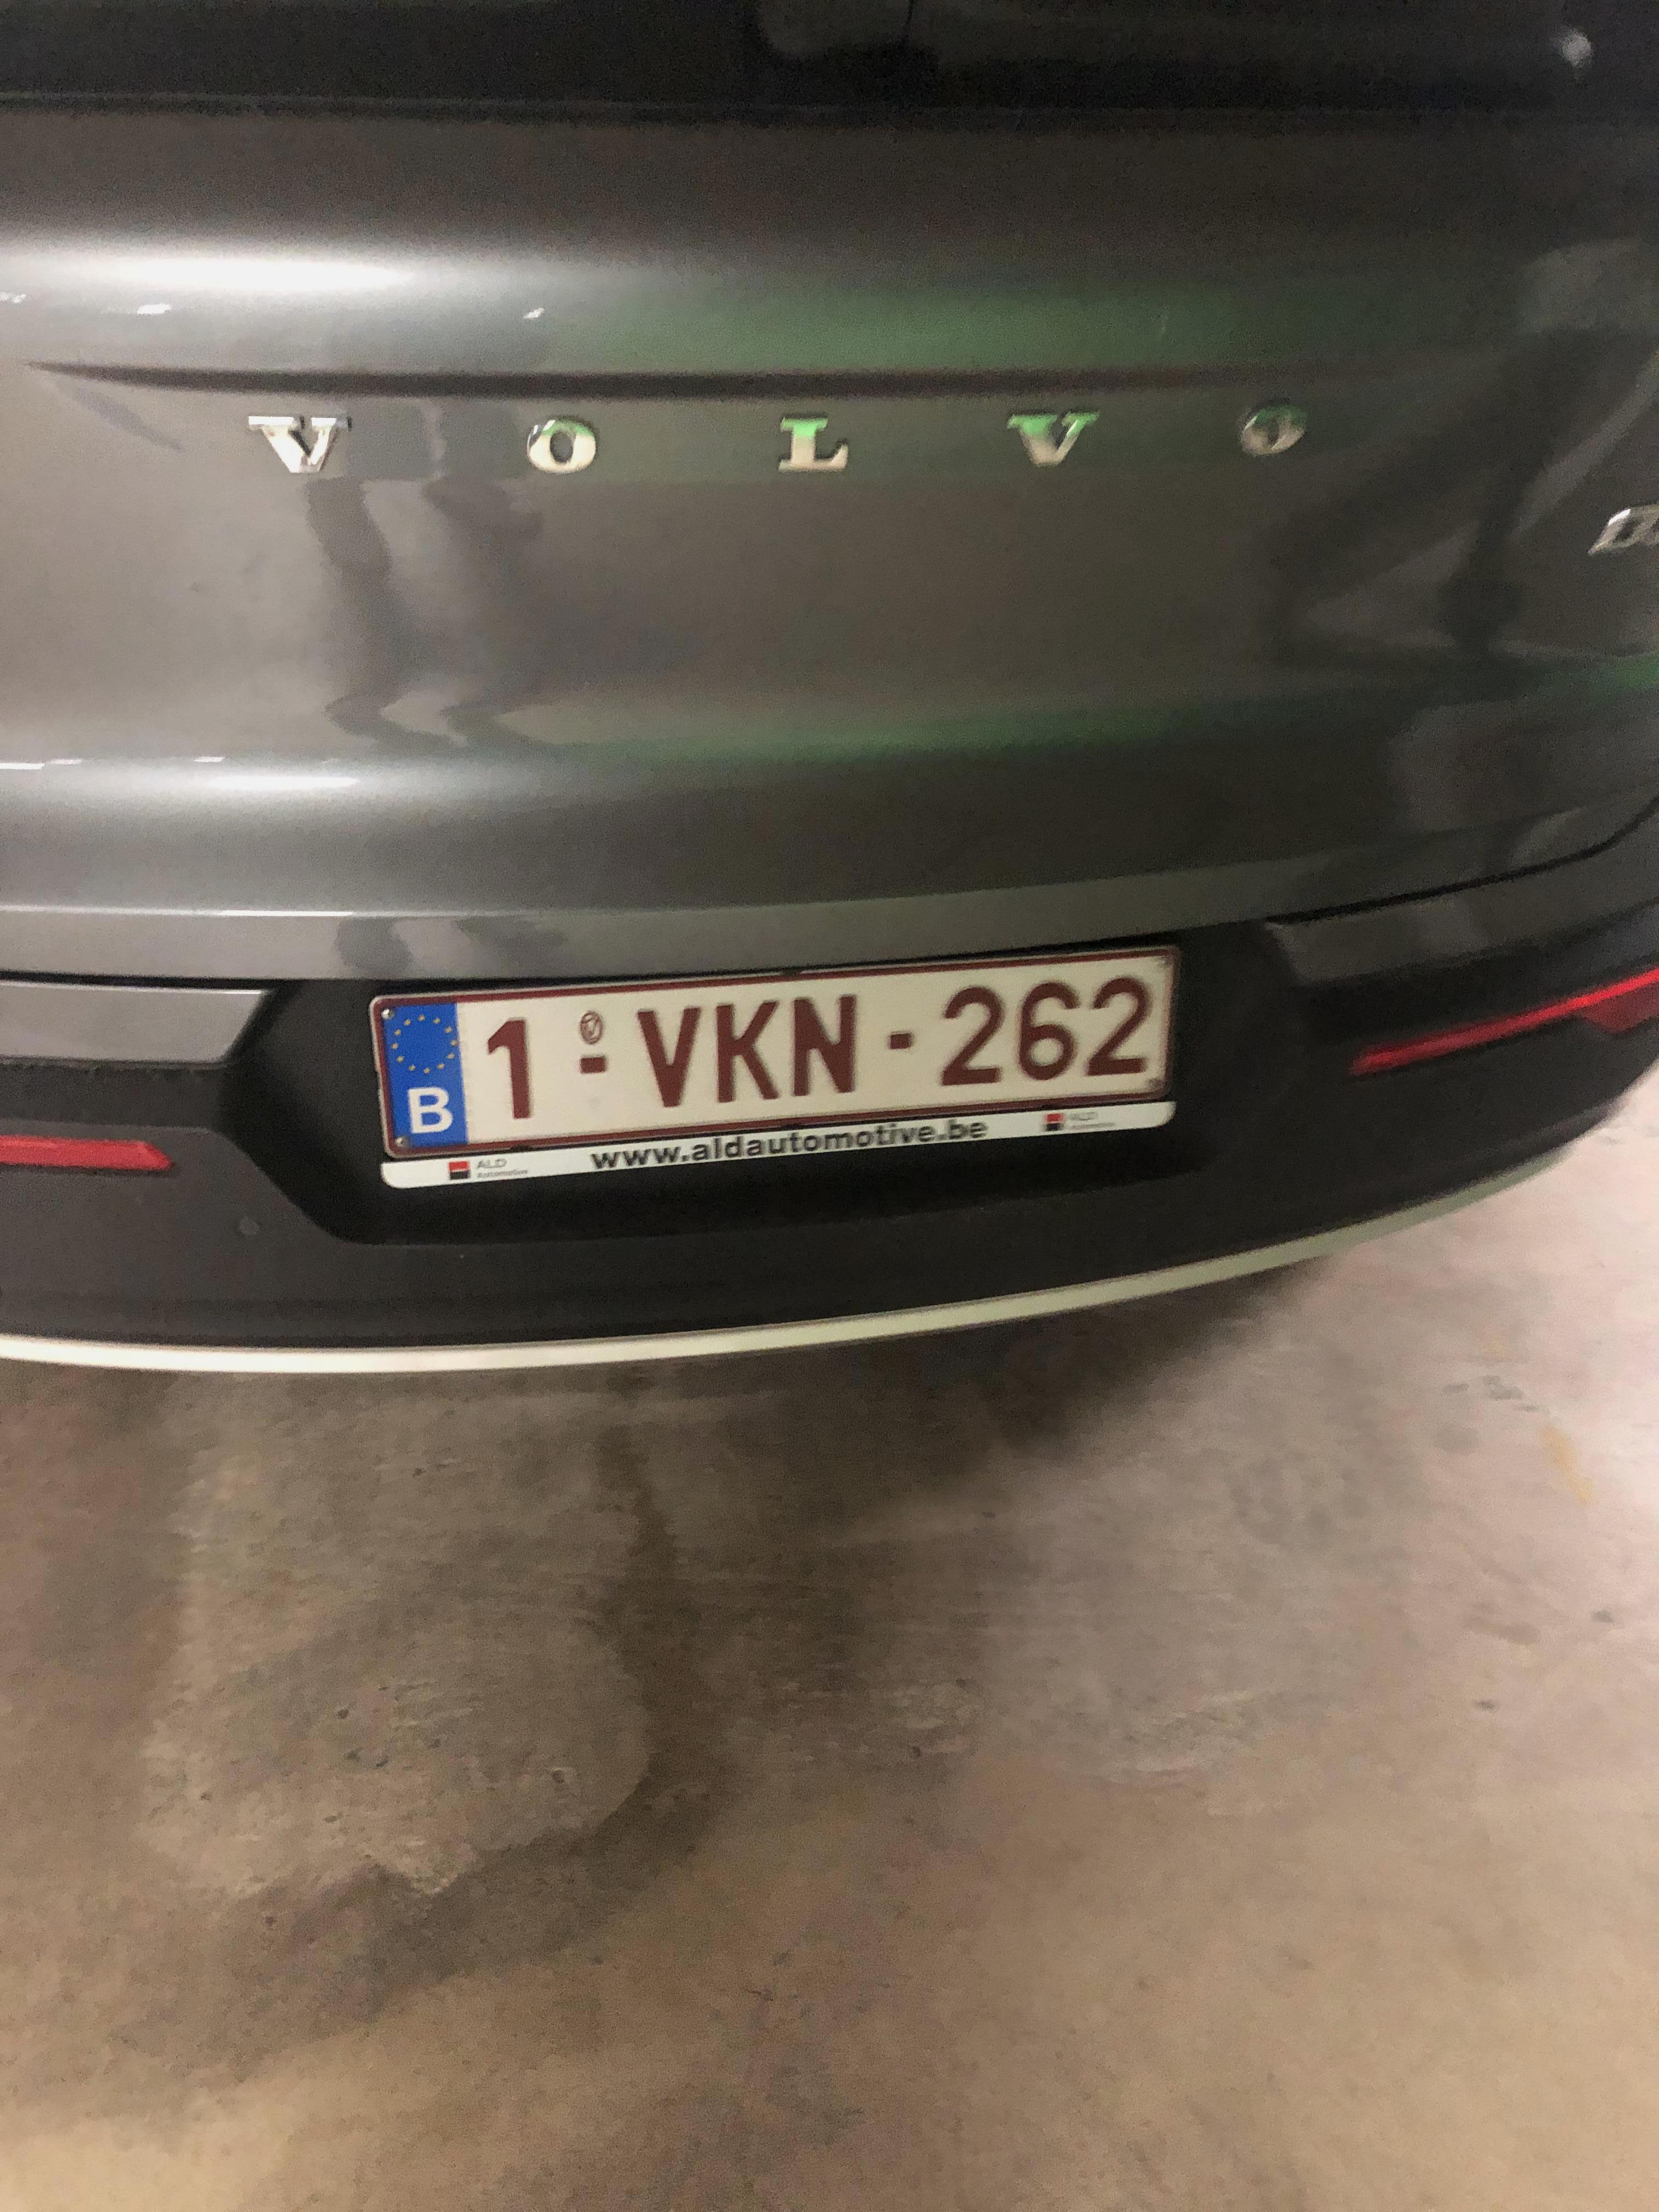plate: (339, 939, 1197, 1194)
